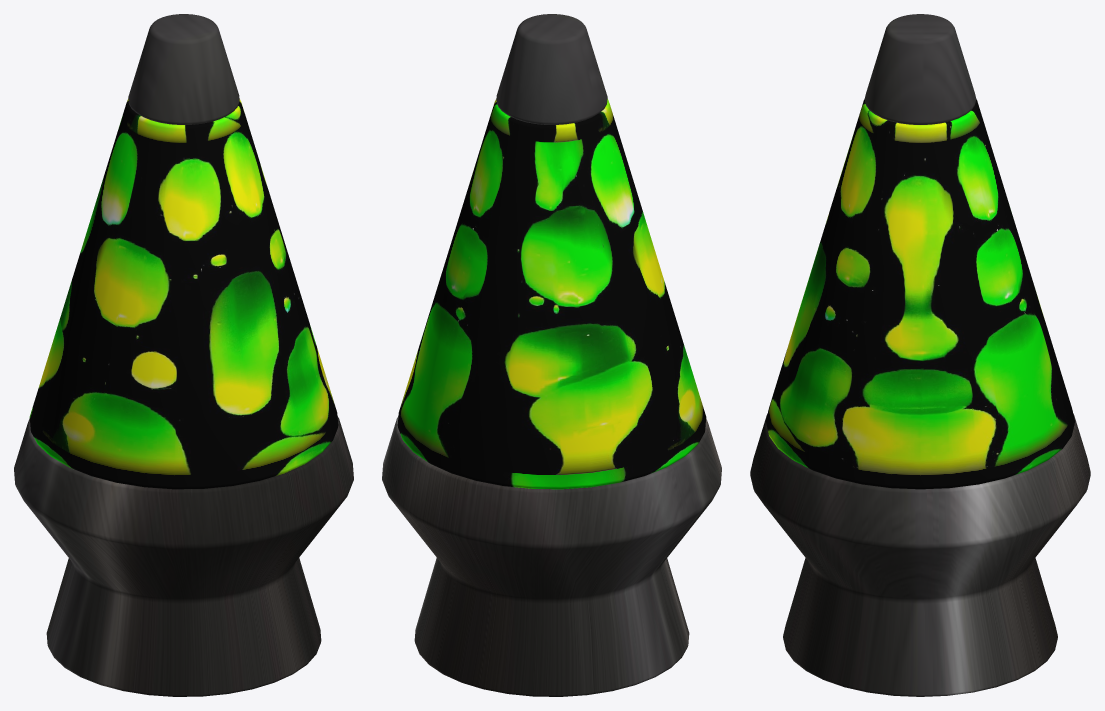
The model's file is lampara_lava.obj.
3 views of the same model, side by side, from view 1: azimuth 30°, elevation 25°; view 2: azimuth 150°, elevation 25°; view 3: azimuth 270°, elevation 25° (orthographic).
Parts seen in each view (by area): view 1: Glass, Main_lamp; view 2: Glass, Main_lamp; view 3: Glass, Main_lamp.
Part boxes in pixels (left/top/right/bottom): Glass: left=29, top=99, right=338, bottom=489; Main_lamp: left=14, top=14, right=353, bottom=696; Glass: left=397, top=99, right=706, bottom=489; Main_lamp: left=382, top=14, right=721, bottom=696; Glass: left=766, top=99, right=1074, bottom=489; Main_lamp: left=750, top=14, right=1090, bottom=696.
Bounding box in the file's own units: 2.08 × 4.14 × 2.08.
Materials: 2 (2 with a texture image).
